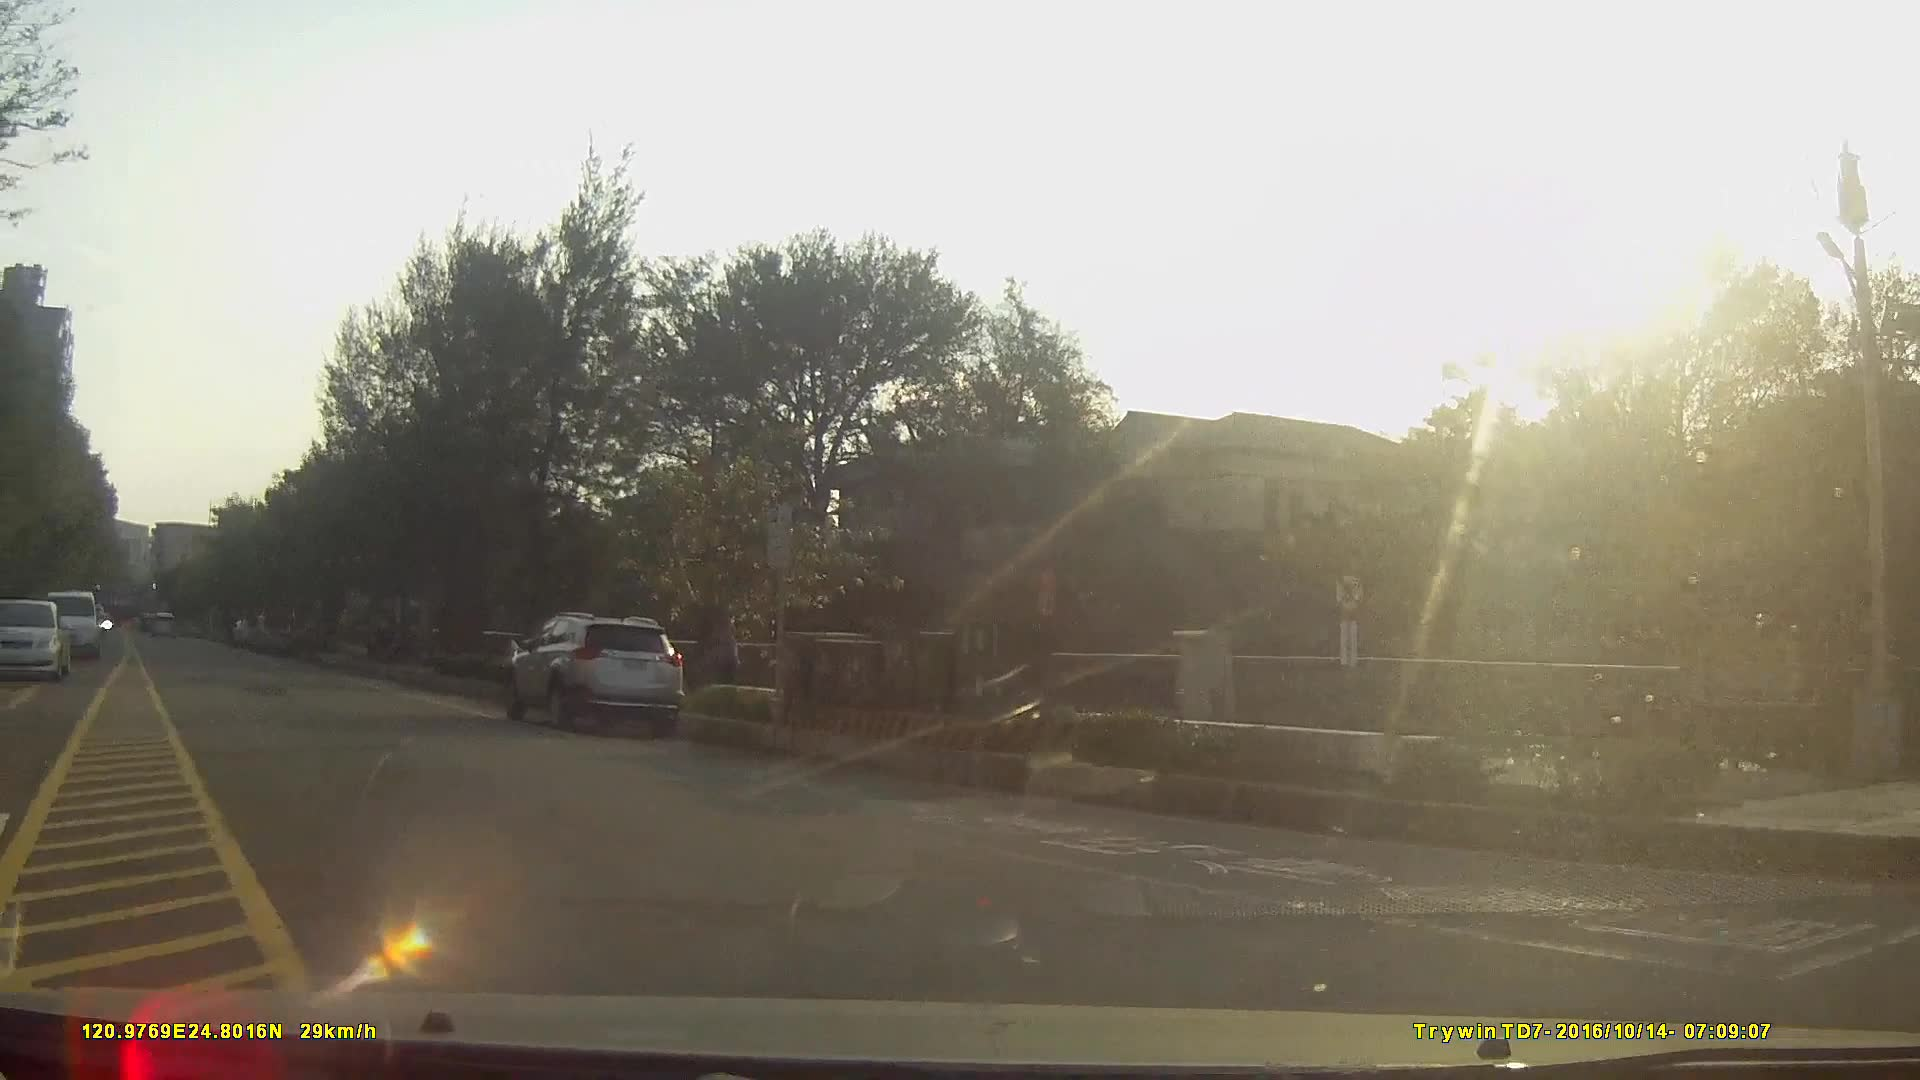vehicle: (500, 615, 686, 735), (0, 599, 63, 683), (44, 592, 102, 665), (243, 608, 297, 653)
